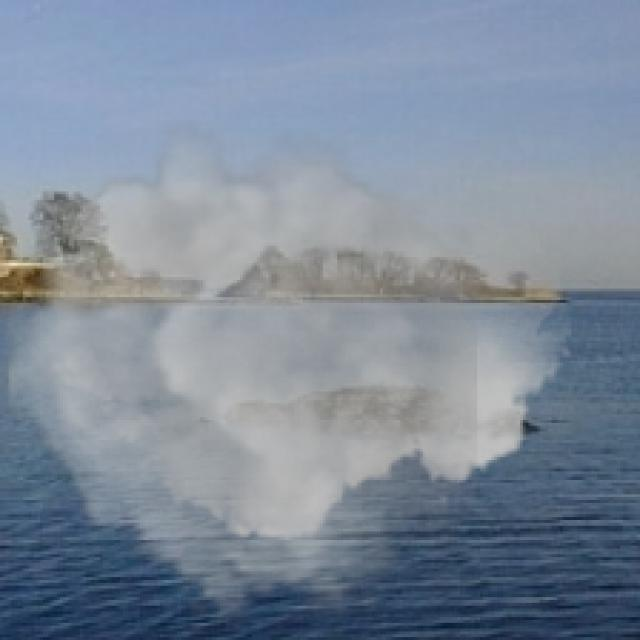smoke: (9, 120, 572, 634)
